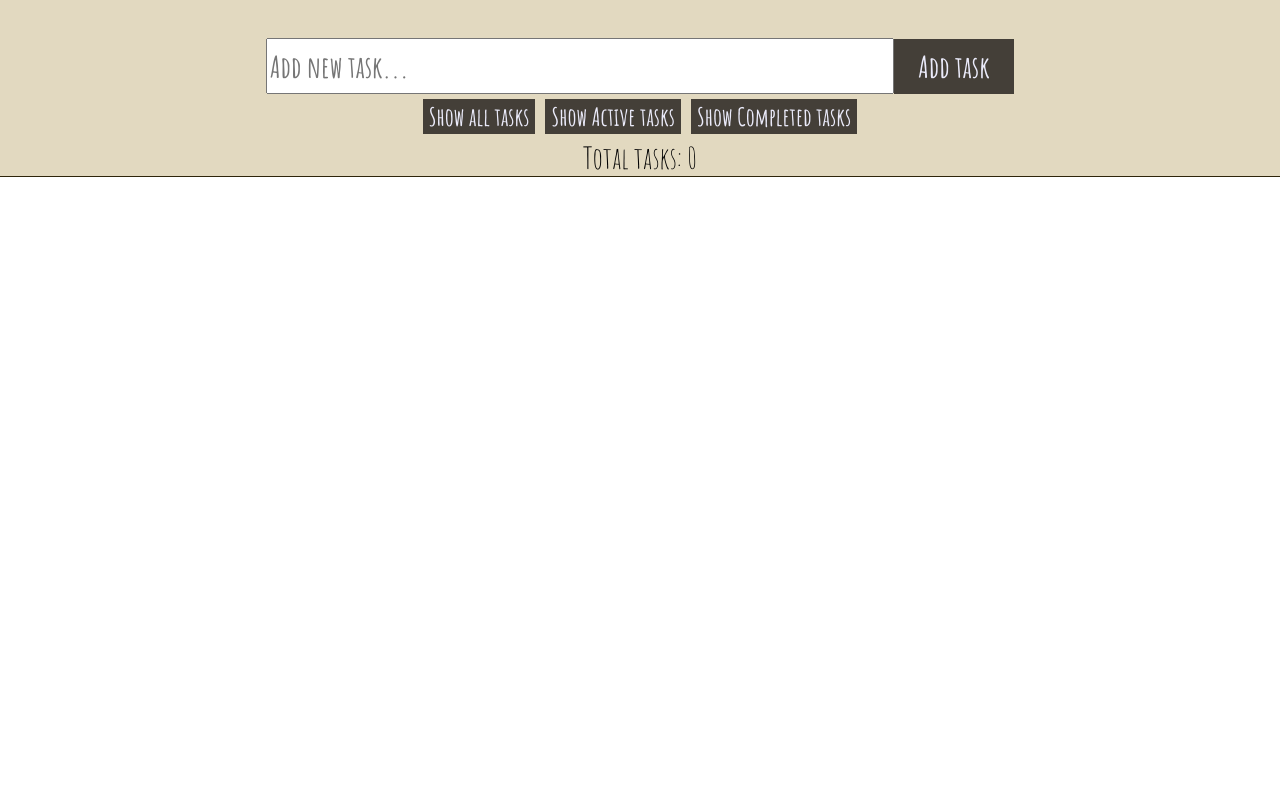
Test: TODO app › when adding a new task › should display the new task in the todo list
Type "Foo" into the field with placeholder "Add new task..." at (580, 66), box [266, 38, 894, 94]
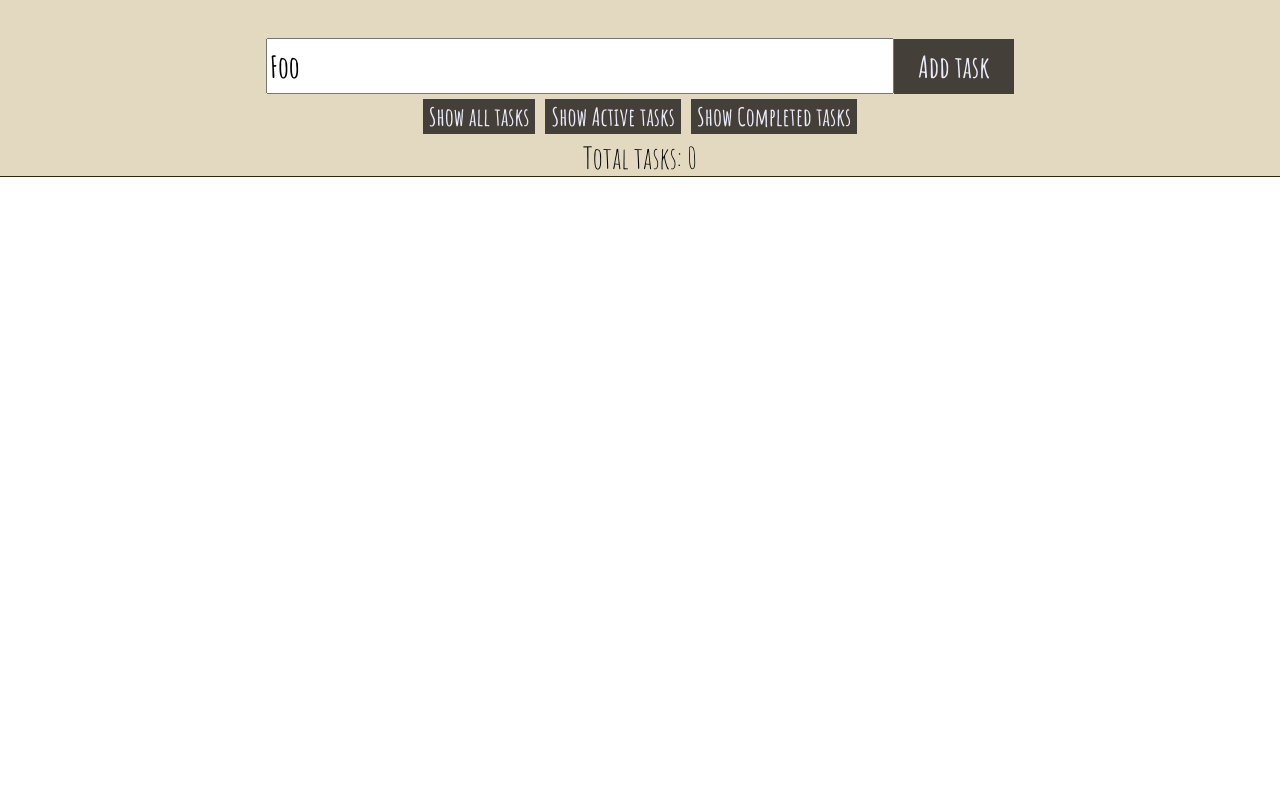
Click the button "Add task" at (954, 66), box [894, 39, 1014, 94]
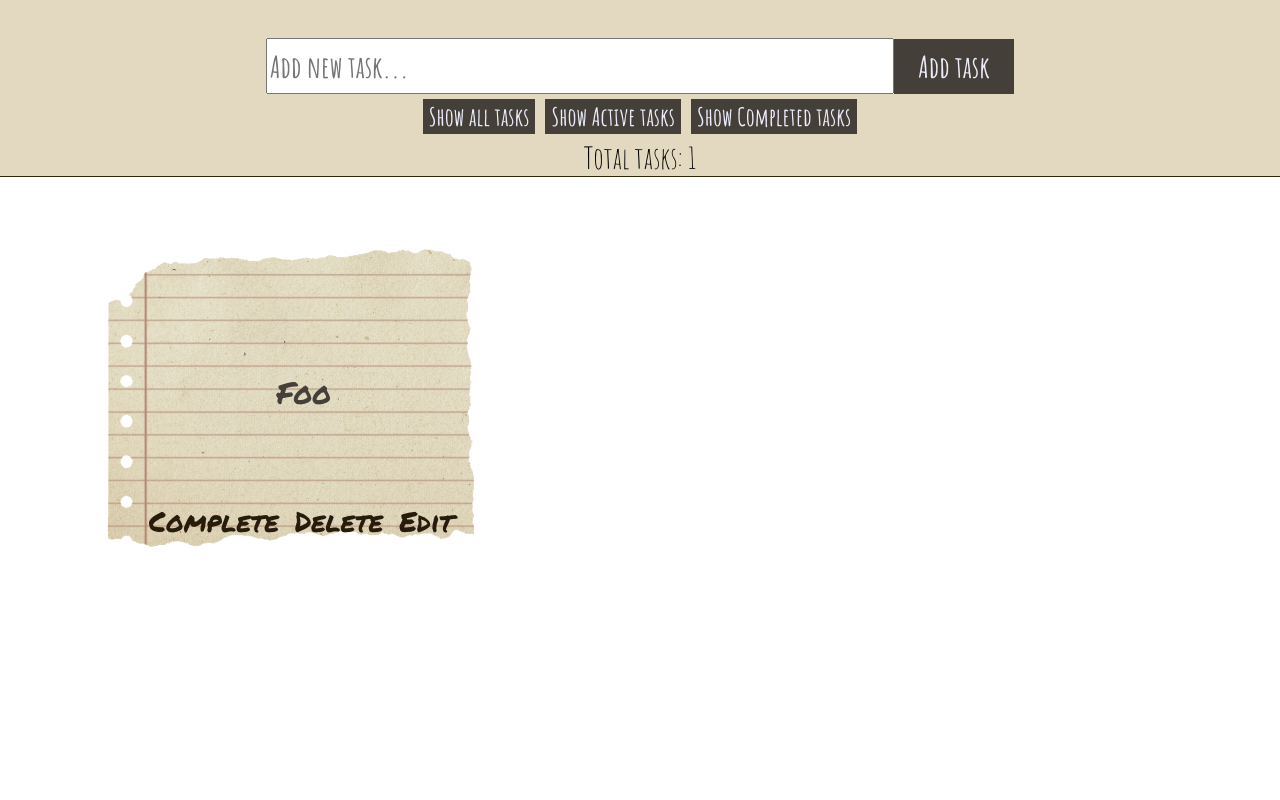
Expected: the text "Foo" is shown, [277, 371, 331, 414]
